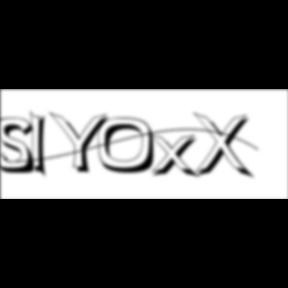O: (98, 117, 162, 176)
S: (0, 117, 42, 176)
X: (193, 112, 257, 182)
Y: (48, 110, 115, 176)
l: (31, 108, 54, 182)
x: (148, 132, 204, 181)
